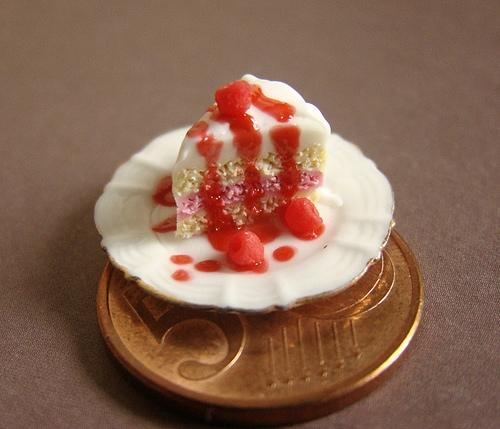raspberry: (215, 81, 252, 118), (228, 230, 264, 266), (285, 198, 323, 232), (154, 176, 177, 206)
